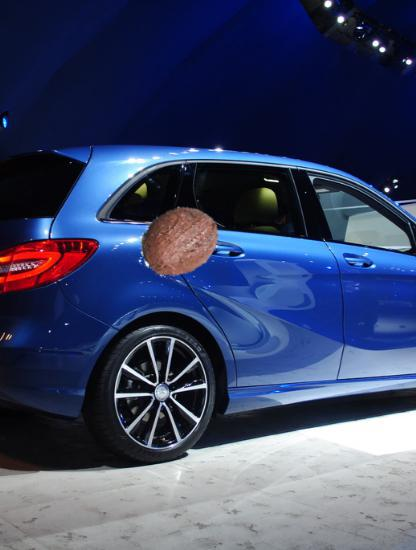Cocos: (137, 199, 223, 285)
